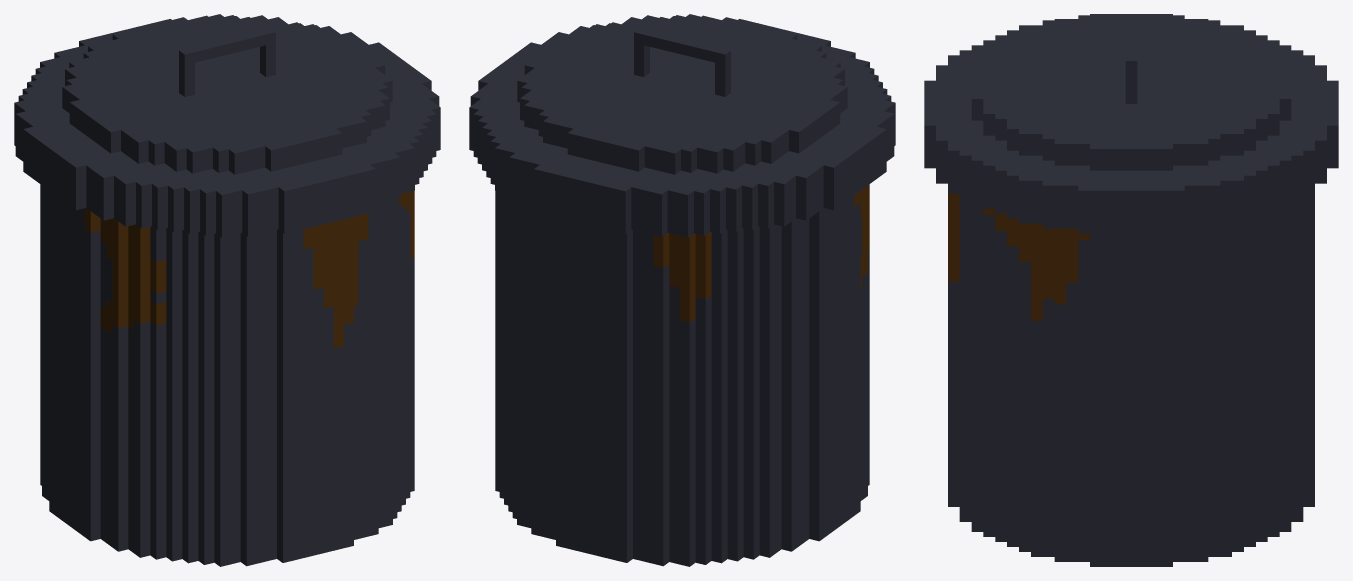
The model's file is TrashCan.obj.
3 views of the same model, side by side, from view 1: azimuth 30°, elevation 25°; view 2: azimuth 150°, elevation 25°; view 3: azimuth 270°, elevation 25° (orthographic).
Size of the model in its own units: 3.5 by 4.2 by 3.5.
1 material, 1 textured.
